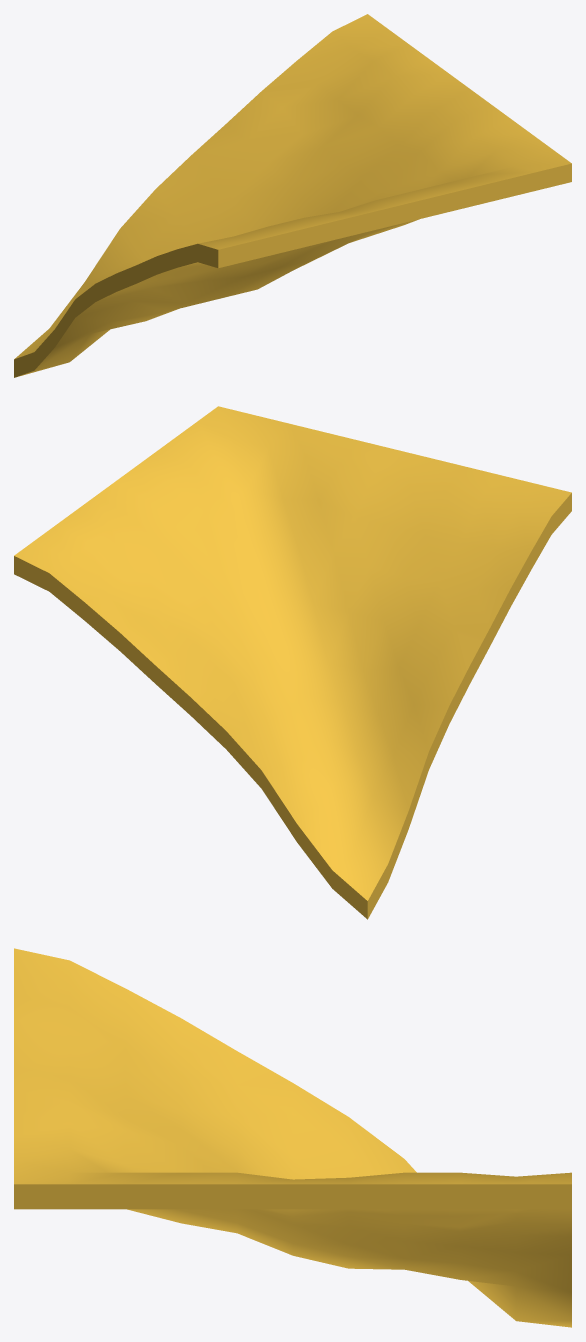
Rendered from Steil - Mitte - Ecke Invertiert b - b.fbx.
3 renders of one model, top to bottom at view 1: azimuth 30°, elevation 25°; view 2: azimuth 150°, elevation 25°; view 3: azimuth 270°, elevation 25°, orthographic. The views are drawn at different scales.
Visible parts, largest first — view 1: Steil - Mitte - Ecke Invertiert b - b; view 2: Steil - Mitte - Ecke Invertiert b - b; view 3: Steil - Mitte - Ecke Invertiert b - b.
Part boxes in pixels (x1,y1,x2,y2): Steil - Mitte - Ecke Invertiert b - b: (14,14,571,377); Steil - Mitte - Ecke Invertiert b - b: (14,406,571,919); Steil - Mitte - Ecke Invertiert b - b: (14,948,571,1327).
Bounding box in the file's own units: 394 × 295 × 394.
